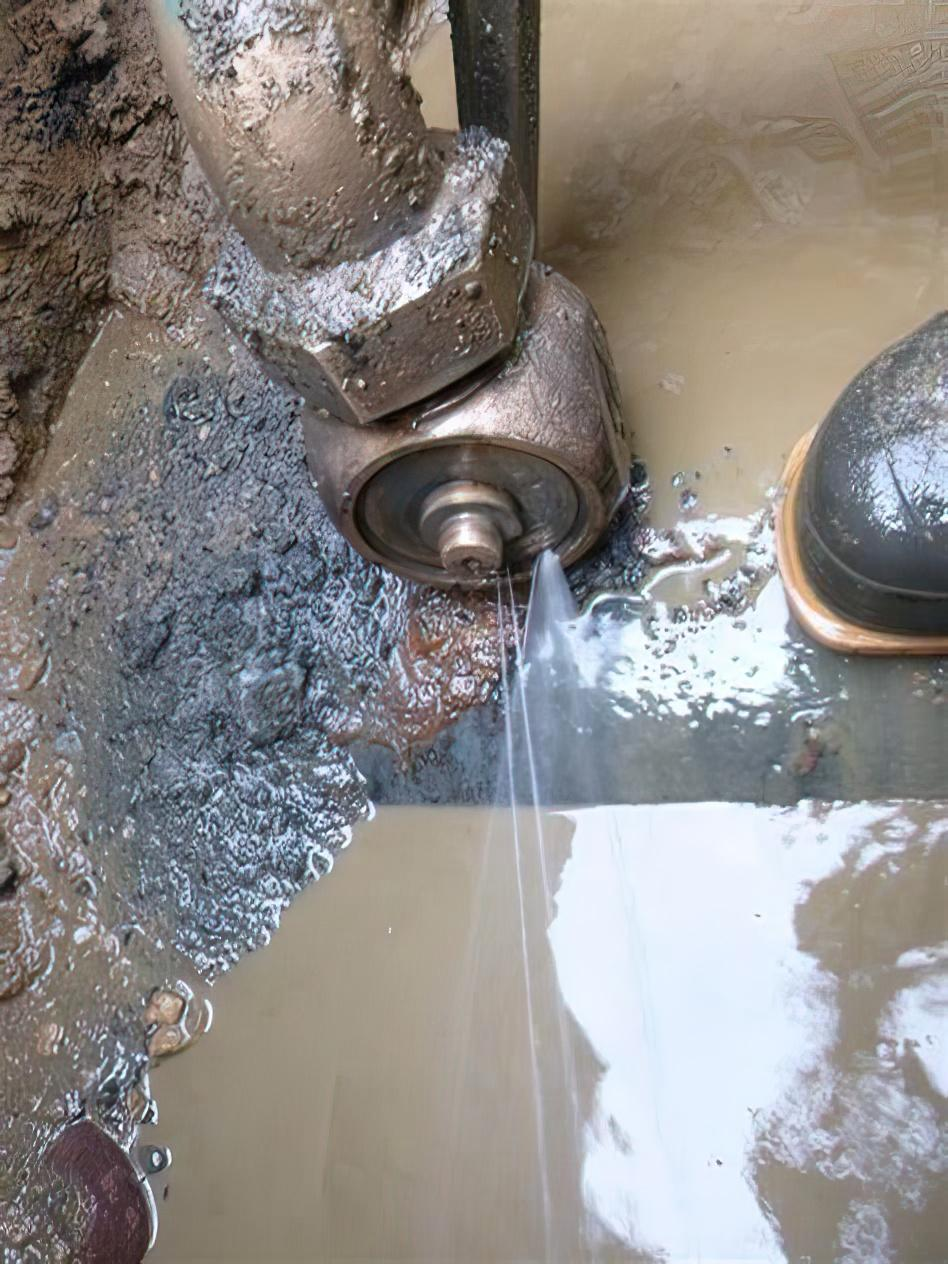pipe burst: (473, 523, 621, 960)
water accumulation: (140, 0, 948, 1264)
